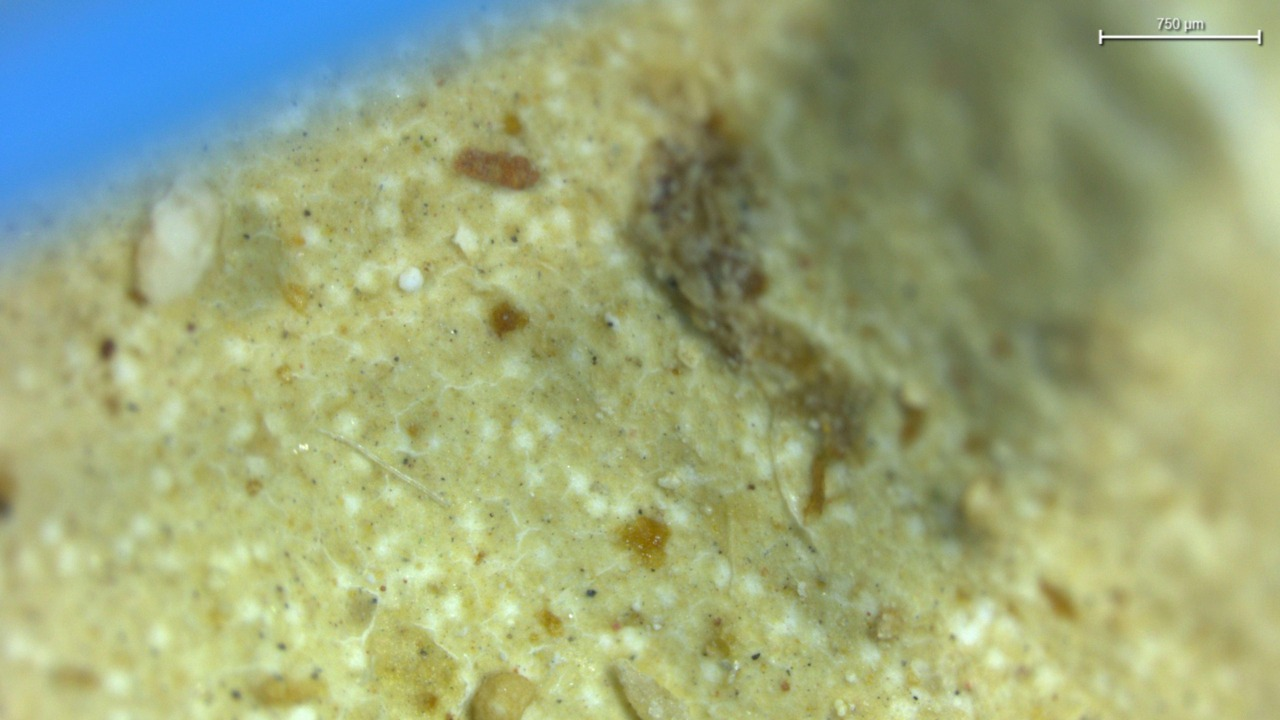microplastic_fragment: (130, 179, 224, 307), (473, 674, 529, 720), (400, 269, 423, 291)
